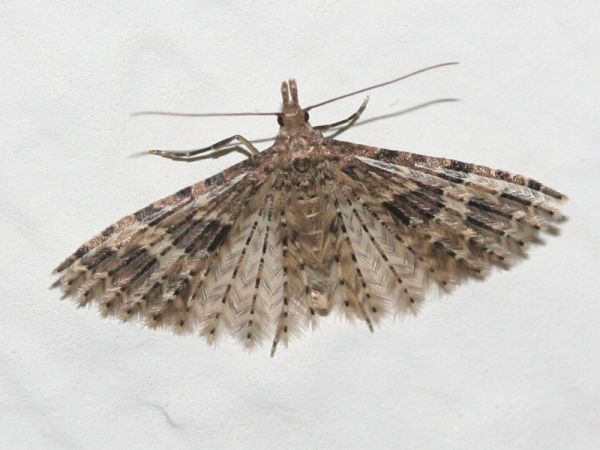Alucitidae: (43, 56, 574, 368)
moth: (41, 54, 572, 366)
